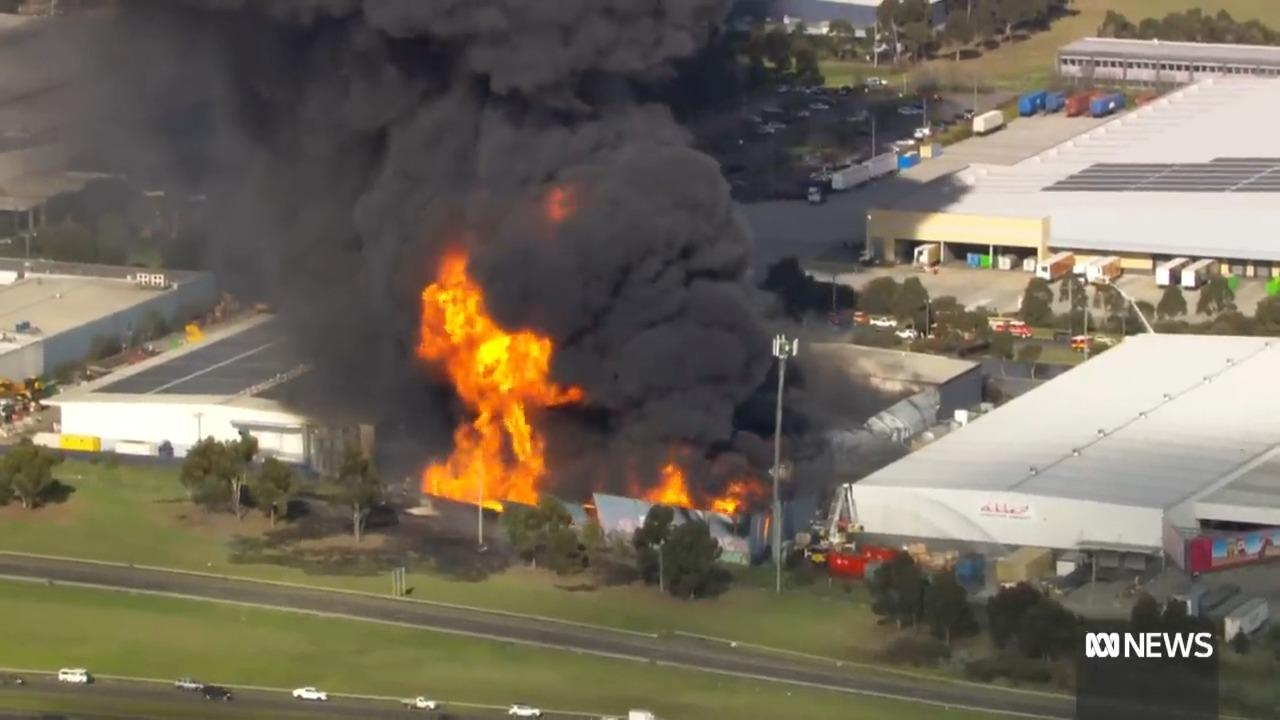fire: (400, 228, 587, 507), (651, 447, 691, 508), (714, 480, 754, 515)
